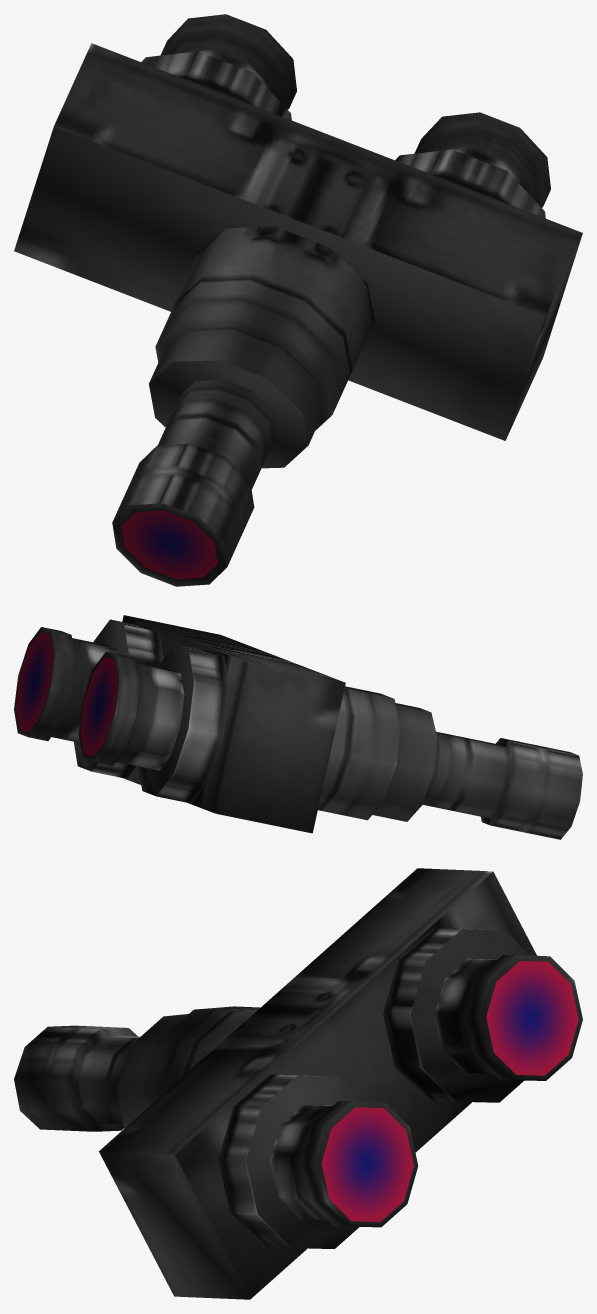
File: infrared_goggles.fbx
3 views of the same model, one above another, from view 1: azimuth 30°, elevation 25°; view 2: azimuth 150°, elevation 25°; view 3: azimuth 270°, elevation 25° (orthographic). The views are drawn at different scales.
Visible parts, largest first — view 1: infrared_goggles; view 2: infrared_goggles; view 3: infrared_goggles.
Boxes of the visible parts, bbox=[...] form: infrared_goggles: bbox=[14, 14, 582, 586]; infrared_goggles: bbox=[14, 615, 582, 839]; infrared_goggles: bbox=[14, 868, 582, 1299].
Size of the model in its own units: 16.61 by 9.69 by 15.51.
